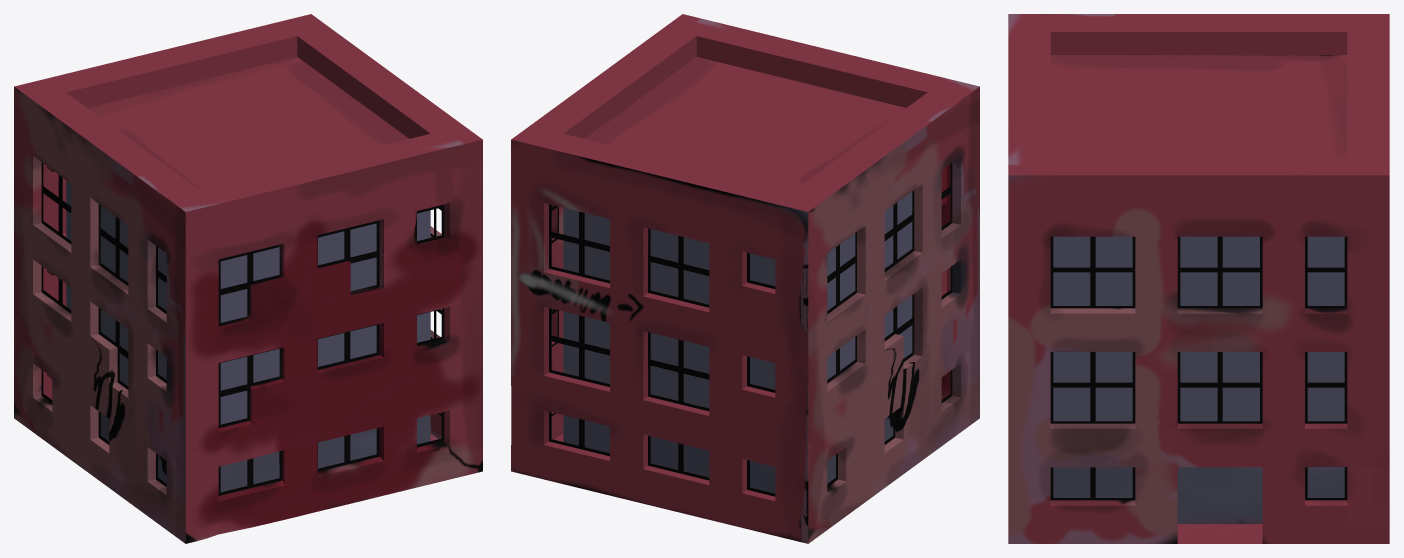
File: Building 1.fbx
3 renders of one model, left to right at view 1: azimuth 30°, elevation 25°; view 2: azimuth 150°, elevation 25°; view 3: azimuth 270°, elevation 25°, orthographic. The views are drawn at different scales.
Parts seen in each view (by area): view 1: Building; view 2: Building; view 3: Building.
Boxes of the visible parts, <box> form: Building: <box>14,14,482,543</box>; Building: <box>511,14,979,543</box>; Building: <box>1008,14,1389,543</box>.
Size of the model in its own units: 2554 by 2727 by 2554.
